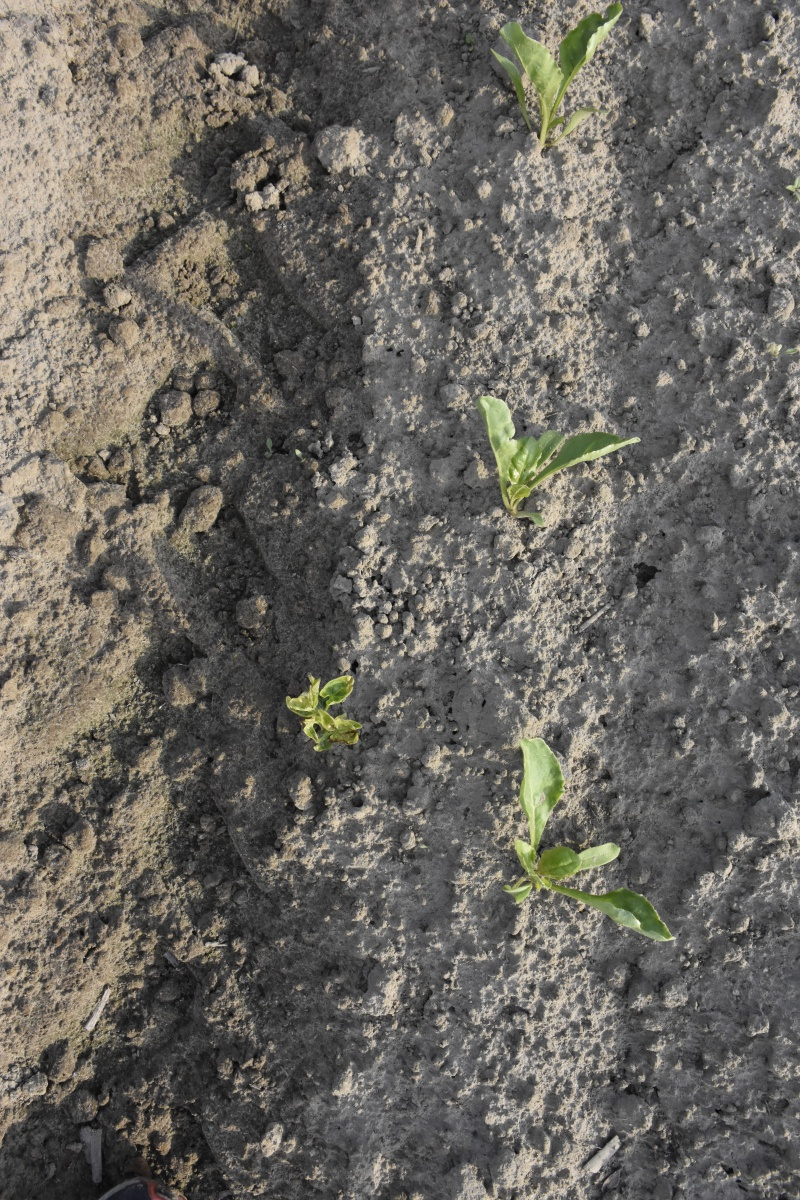field bindweed: (284, 662, 368, 744)
sugar beet: (494, 726, 681, 972), (478, 389, 643, 531), (491, 1, 624, 156)
